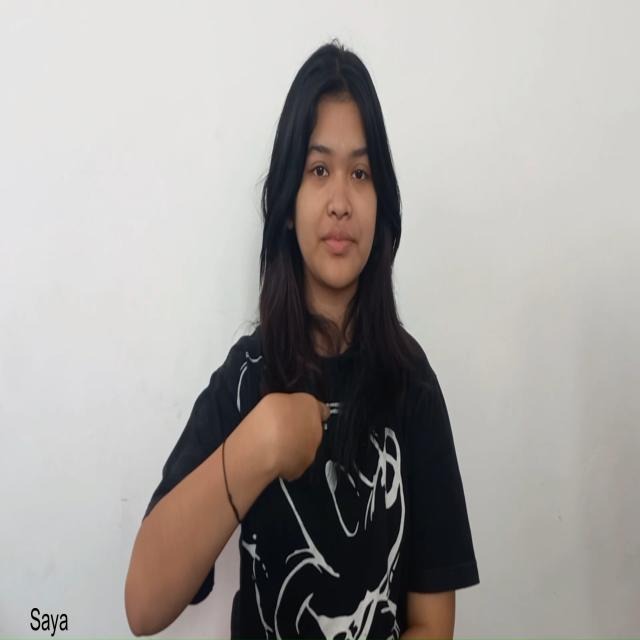Saya -BISINDO-: (241, 381, 335, 498)
